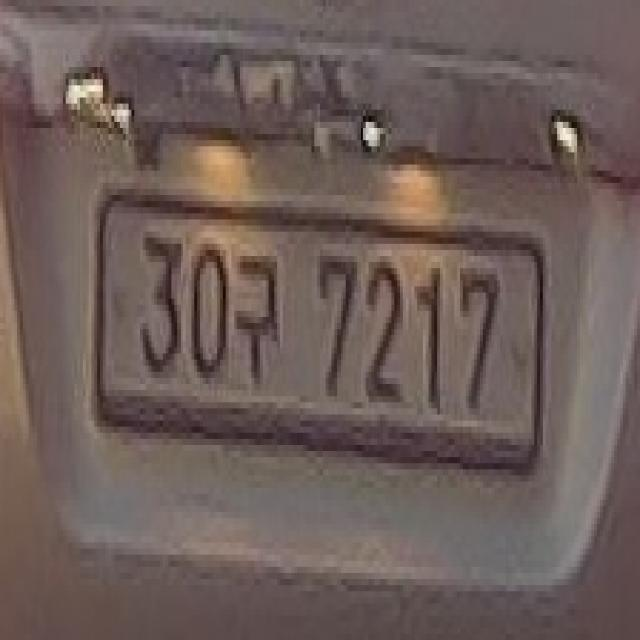0: (192, 238, 228, 378)
1: (414, 268, 443, 408)
2: (366, 256, 403, 402)
3: (143, 225, 183, 372)
7: (457, 268, 500, 415), (317, 250, 357, 396)
gu: (234, 250, 277, 384)
license_plate: (94, 177, 549, 475)
